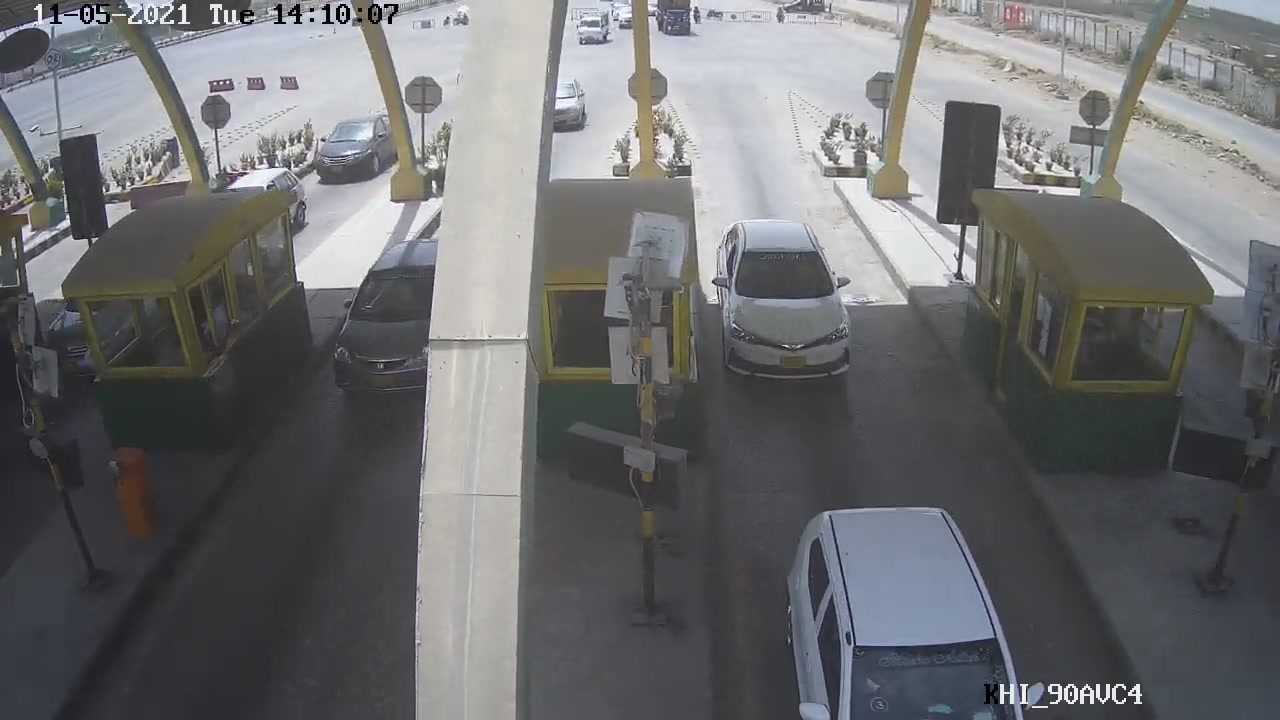F1: (706, 214, 860, 386)
